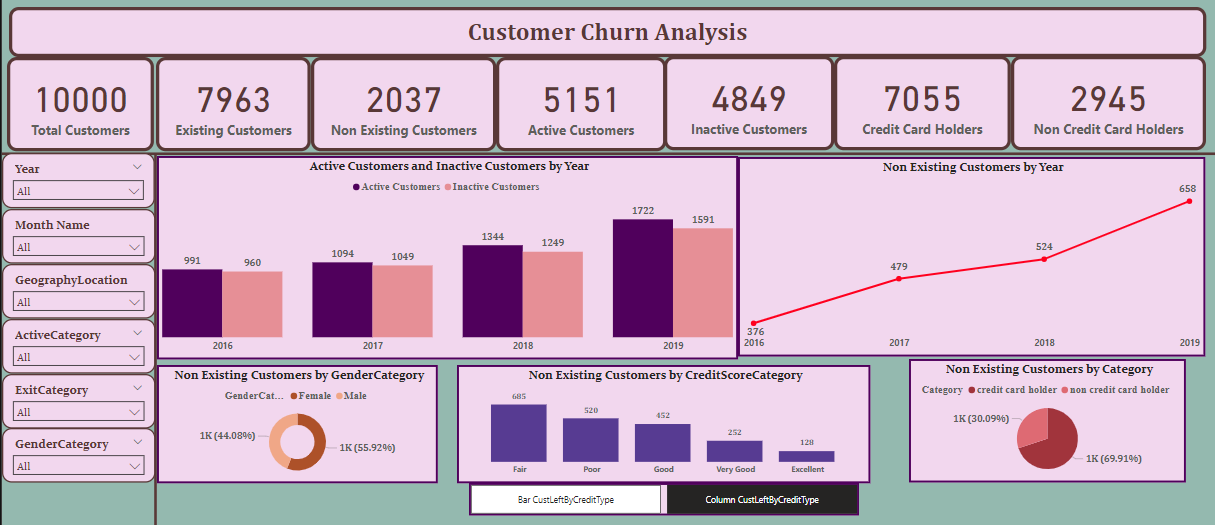

What the dashboard file says about the page in this screenshot:
{"tool":"powerbi","page":{"name":"Page 1","canvas":[1880,820],"ordinal":0},"visuals":[{"type":"card","fields":{"Values":["Measures Table.Total Customers Count"]},"box":[7.7,96.9,226.2,144.6],"z":0},{"type":"card","fields":{"Values":["Measures Table.Active Customer Count"]},"box":[760,96.7,261.7,145],"z":1000},{"type":"card","fields":{"Values":["Measures Table.Inactive Customer Count"]},"box":[1018.3,95,261.7,145],"z":2000},{"type":"card","fields":{"Values":["Measures Table.CreditCard Holder Count"]},"box":[1280,95,271.7,145],"z":3000},{"type":"card","fields":{"Values":["Measures Table.Non Credit Card Holder Count"]},"box":[1551.7,95,300,145],"z":4000},{"type":"card","fields":{"Values":["Measures Table.Existing Customers Count"]},"box":[236.7,96.7,238.3,145],"z":5000},{"type":"card","fields":{"Values":["Measures Table.Non Existing Customers Count"]},"box":[475,96.7,285,145],"z":6000},{"type":"textbox","box":[10,20,1841.7,76.7],"z":7000},{"type":"shape","box":[0,170,1880,150],"z":8000},{"type":"shape","box":[118.5,246.2,235.4,573.8],"z":9000},{"type":"slicer","fields":{"Values":["DateMaster.Year"]},"box":[0,245,235,85],"z":10000},{"type":"slicer","fields":{"Values":["DateMaster.Month Name"]},"box":[0,331.1,235.6,84.4],"z":11000},{"type":"slicer","fields":{"Values":["Geography.GeographyLocation"]},"box":[0,415.6,235.6,84.4],"z":12000},{"type":"slicer","fields":{"Values":["ActiveCustomer.ActiveCategory"]},"box":[0,500,235.6,84.4],"z":13000},{"type":"slicer","fields":{"Values":["ExitCustomer.ExitCategory"]},"box":[0,584.4,235.6,84.4],"z":14000},{"type":"slicer","fields":{"Values":["Gender.GenderCategory"]},"box":[0,668,236,84],"z":15000},{"type":"clusteredColumnChart","fields":{"Y":["Measures Table.Active Customers","Measures Table.Inactive Customers"],"Category":["DateMaster.Year","DateMaster.Month Name"]},"box":[238.6,248.6,894.3,312.9],"z":16000},{"type":"lineChart","fields":{"Y":["Measures Table.Non Existing Customers"],"Category":["DateMaster.Year","DateMaster.Month Name"]},"box":[1132.9,251.4,718.6,307.1],"z":17000},{"type":"donutChart","fields":{"Y":["Measures Table.Non Existing Customers"],"Category":["Gender.GenderCategory"]},"box":[238,570,432,182],"z":18000},{"type":"clusteredColumnChart","fields":{"Category":["Bank_Churn.CreditType"],"Y":["Measures Table.Non Existing Customers"]},"box":[700,570,636,182],"z":20000},{"type":"pieChart","fields":{"Category":["CreditCard.Category"],"Y":["Measures Table.Non Existing Customers"]},"box":[1396,562,426,190],"z":21000},{"type":"bookmarkNavigator","box":[718,752,600,50],"z":22000}]}

Visuals, with their boxes in screenshot pixels (x1, y1, x2, y2), scaled from the page's 1880x820 canvas onto the 1215x525 screenshot:
card - Measures Table.Total Customers Count: select_region(5, 62, 151, 155)
card - Measures Table.Active Customer Count: select_region(491, 62, 660, 155)
card - Measures Table.Inactive Customer Count: select_region(658, 61, 827, 154)
card - Measures Table.CreditCard Holder Count: select_region(827, 61, 1003, 154)
card - Measures Table.Non Credit Card Holder Count: select_region(1003, 61, 1197, 154)
card - Measures Table.Existing Customers Count: select_region(153, 62, 307, 155)
card - Measures Table.Non Existing Customers Count: select_region(307, 62, 491, 155)
textbox: select_region(6, 13, 1197, 62)
shape: select_region(0, 109, 1214, 205)
shape: select_region(77, 158, 229, 524)
slicer - DateMaster.Year: select_region(0, 157, 152, 211)
slicer - DateMaster.Month Name: select_region(0, 212, 152, 266)
slicer - Geography.GeographyLocation: select_region(0, 266, 152, 320)
slicer - ActiveCustomer.ActiveCategory: select_region(0, 320, 152, 374)
slicer - ExitCustomer.ExitCategory: select_region(0, 374, 152, 428)
slicer - Gender.GenderCategory: select_region(0, 428, 153, 481)
clusteredColumnChart - Measures Table.Active Customers x Measures Table.Inactive Customers: select_region(154, 159, 732, 359)
lineChart - Measures Table.Non Existing Customers x DateMaster.Year: select_region(732, 161, 1197, 358)
donutChart - Measures Table.Non Existing Customers x Gender.GenderCategory: select_region(154, 365, 433, 481)
clusteredColumnChart - Bank_Churn.CreditType x Measures Table.Non Existing Customers: select_region(452, 365, 863, 481)
pieChart - CreditCard.Category x Measures Table.Non Existing Customers: select_region(902, 360, 1178, 481)
bookmarkNavigator: select_region(464, 481, 852, 513)
